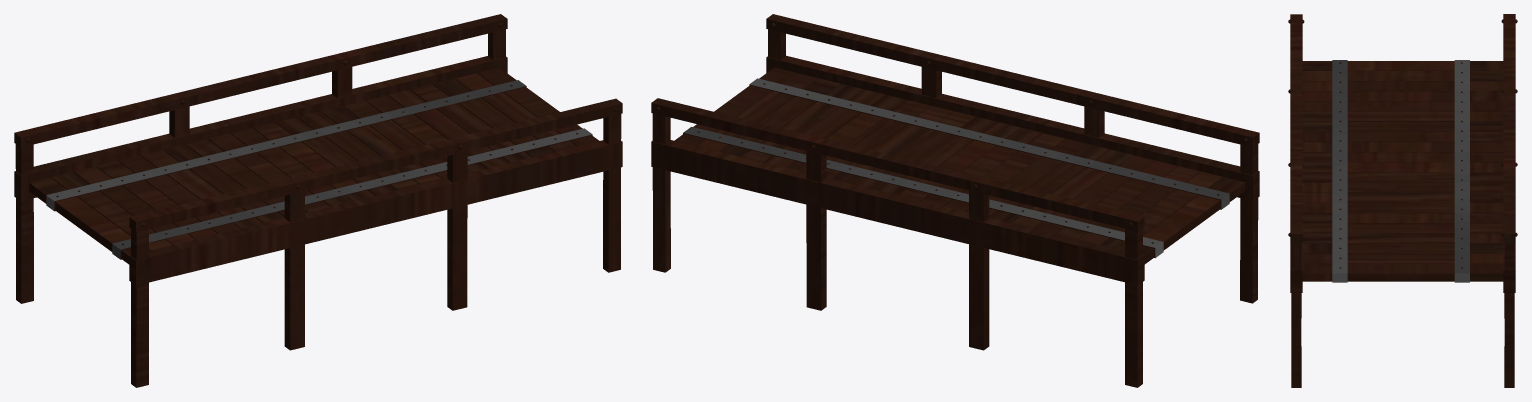
The picture shows the model from 3 angles, left to right: view 1: azimuth 30°, elevation 25°; view 2: azimuth 150°, elevation 25°; view 3: azimuth 270°, elevation 25°; orthographic projection. The views are drawn at different scales.
Parts seen in each view (by area): view 1: Bridge.001, Bridge.001_Bridge_0.002, Bridge.001_Bridge_0.011, Bridge.001_Bridge_0.010, Bridge.001_Bridge_0.012, Bridge.001_Bridge_0.001, Bridge.001_Bridge_0.003, Bridge.001_Bridge_0.006, Bridge.001_Bridge_0.008, Bridge.001_Bridge_0.007; view 2: Bridge.001, Bridge.001_Bridge_0.003, Bridge.001_Bridge_0.012, Bridge.001_Bridge_0.010, Bridge.001_Bridge_0.001, Bridge.001_Bridge_0.004, Bridge.001_Bridge_0.011, Bridge.001_Bridge_0.002, Bridge.001_Bridge_0.008, Bridge.001_Bridge_0.007, Bridge.001_Bridge_0.009, Bridge.001_Bridge_0.006; view 3: Bridge.001, Bridge.001_Bridge_0.001, Bridge.001_Bridge_0.012, Bridge.001_Bridge_0.010, Bridge.001_Bridge_0.009, Bridge.001_Bridge_0.011, Bridge.001_Bridge_0.002, Bridge.001_Bridge_0.003.
Part boxes in pixels (x1,y1,x2,y2): Bridge.001: (29,68,599,264); Bridge.001_Bridge_0.002: (129,140,622,285); Bridge.001_Bridge_0.011: (131,114,621,387); Bridge.001_Bridge_0.010: (14,14,507,147); Bridge.001_Bridge_0.012: (129,98,622,231); Bridge.001_Bridge_0.001: (46,80,592,259); Bridge.001_Bridge_0.003: (14,56,507,201); Bridge.001_Bridge_0.006: (15,144,33,303); Bridge.001_Bridge_0.008: (332,67,352,98); Bridge.001_Bridge_0.007: (169,106,189,137); Bridge.001: (674,67,1245,264); Bridge.001_Bridge_0.003: (651,140,1144,285); Bridge.001_Bridge_0.012: (766,14,1259,147); Bridge.001_Bridge_0.010: (651,98,1144,231); Bridge.001_Bridge_0.001: (683,78,1229,257); Bridge.001_Bridge_0.004: (766,57,1252,200); Bridge.001_Bridge_0.011: (768,29,1258,303); Bridge.001_Bridge_0.002: (767,55,1259,200); Bridge.001_Bridge_0.008: (806,151,826,310); Bridge.001_Bridge_0.007: (969,190,989,350); Bridge.001_Bridge_0.009: (652,113,670,272); Bridge.001_Bridge_0.006: (1125,228,1142,387); Bridge.001: (1302,61,1503,281); Bridge.001_Bridge_0.001: (1332,60,1469,282); Bridge.001_Bridge_0.012: (1288,14,1304,243); Bridge.001_Bridge_0.010: (1501,14,1517,242); Bridge.001_Bridge_0.009: (1504,243,1514,387); Bridge.001_Bridge_0.011: (1291,243,1301,387); Bridge.001_Bridge_0.002: (1290,243,1302,292); Bridge.001_Bridge_0.003: (1503,243,1515,292).
Bounding box in the file's own units: 61.96 × 20.32 × 27.33.
Materials: 5 (5 with a texture image).
